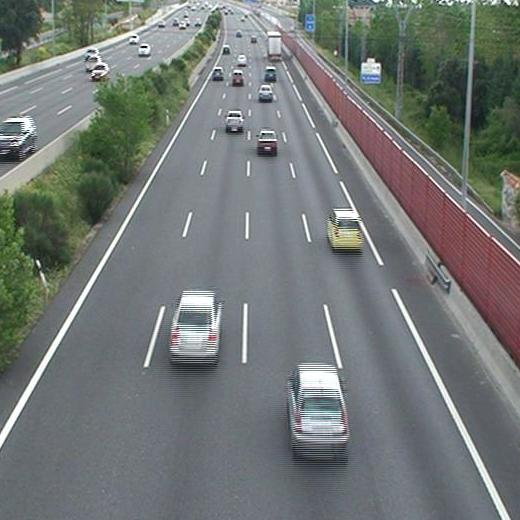car: (288, 365, 348, 449), (170, 290, 220, 362), (328, 210, 362, 250), (258, 132, 278, 151), (226, 111, 244, 131), (258, 85, 271, 100), (265, 66, 276, 81), (232, 71, 243, 84), (213, 67, 223, 79), (236, 56, 246, 64), (221, 45, 229, 53)
truck: (266, 33, 281, 59)
